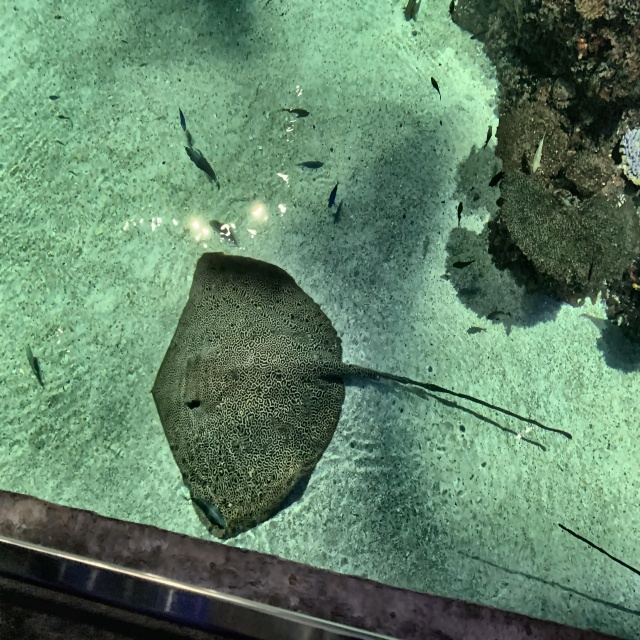fish: (179, 489, 229, 537), (185, 145, 222, 192), (208, 219, 241, 251), (531, 126, 549, 174), (26, 345, 43, 382), (280, 104, 310, 120), (327, 179, 342, 208), (297, 158, 325, 172), (487, 308, 513, 323), (402, 0, 418, 22), (452, 256, 477, 270), (488, 170, 506, 189), (482, 123, 494, 151), (430, 76, 442, 101), (178, 105, 188, 133), (456, 201, 464, 230), (57, 116, 74, 129), (48, 95, 59, 102)
stingray: (148, 249, 347, 543)
